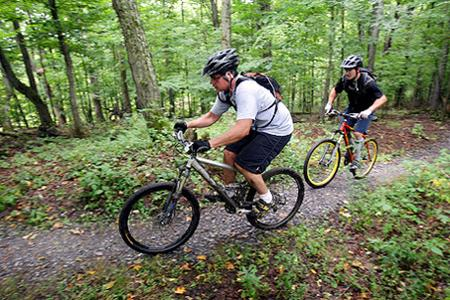person: (175, 49, 298, 218)
